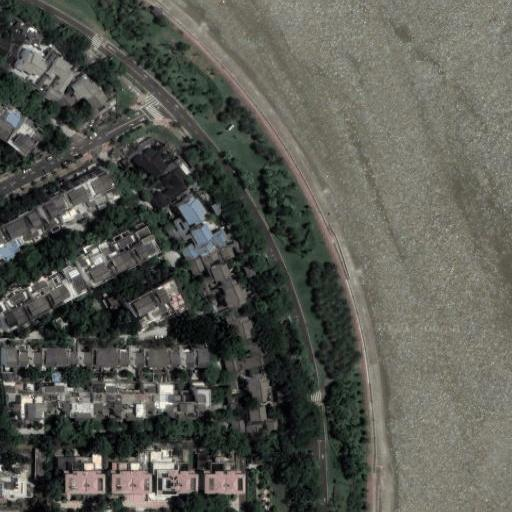building: (0, 261, 89, 335), (127, 276, 194, 329), (74, 237, 138, 287), (33, 55, 82, 106), (110, 220, 164, 266), (69, 70, 119, 118), (152, 444, 198, 494), (54, 452, 108, 494), (108, 444, 152, 494), (198, 451, 243, 494), (6, 116, 49, 160), (37, 193, 77, 234), (11, 48, 50, 87), (86, 169, 124, 209), (62, 181, 100, 221), (19, 22, 54, 59), (132, 143, 166, 179), (118, 135, 156, 167), (21, 205, 53, 243), (177, 193, 210, 229), (145, 382, 174, 420), (92, 379, 120, 418), (120, 379, 145, 420), (22, 383, 45, 426), (45, 382, 68, 423), (108, 134, 140, 163), (244, 374, 272, 407), (236, 340, 265, 371), (222, 279, 249, 312), (1, 15, 30, 44), (203, 281, 227, 315), (0, 469, 28, 497), (161, 181, 190, 207), (163, 215, 192, 240), (159, 165, 188, 190), (147, 347, 175, 372), (68, 389, 92, 418), (186, 221, 213, 246), (209, 226, 237, 250), (93, 348, 128, 367), (174, 389, 196, 418), (196, 379, 212, 418), (216, 239, 243, 262), (236, 313, 255, 344), (0, 368, 23, 391), (200, 248, 223, 271), (146, 189, 168, 213), (160, 202, 184, 224), (46, 347, 72, 367), (153, 160, 180, 179), (210, 261, 231, 285), (242, 404, 268, 423), (175, 347, 198, 368), (128, 348, 147, 372), (223, 390, 242, 414), (179, 243, 200, 264), (59, 89, 79, 111), (35, 447, 47, 482), (194, 237, 215, 257), (187, 257, 207, 277), (72, 348, 93, 367), (177, 155, 194, 178), (209, 200, 227, 221), (226, 353, 241, 378), (205, 216, 223, 235), (173, 232, 192, 250), (196, 184, 212, 204), (31, 347, 46, 368), (270, 388, 286, 407), (198, 345, 211, 368), (230, 417, 246, 435), (244, 420, 265, 433), (185, 179, 202, 195), (41, 49, 57, 66), (223, 310, 238, 328), (263, 417, 281, 429), (247, 367, 267, 377), (226, 377, 239, 392), (52, 372, 61, 382)
